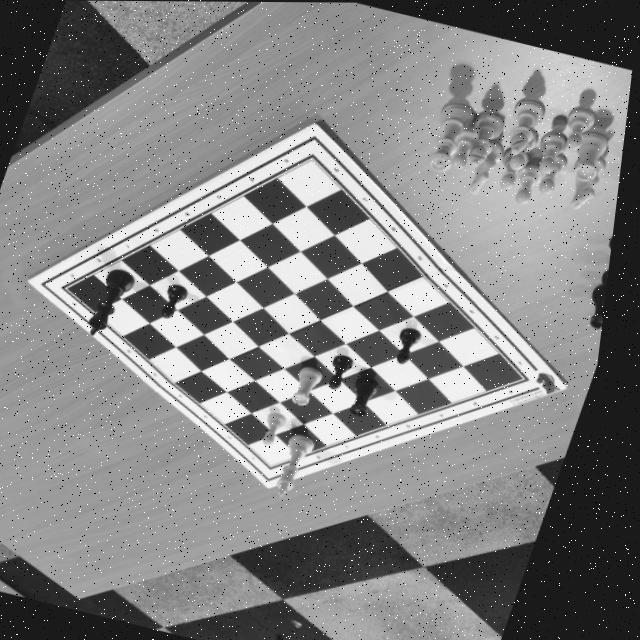chessboard: (73, 157, 536, 465)
